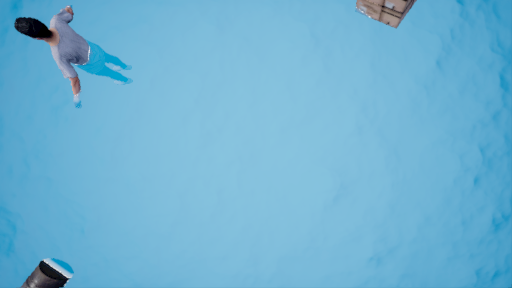person: (11, 7, 141, 115)
